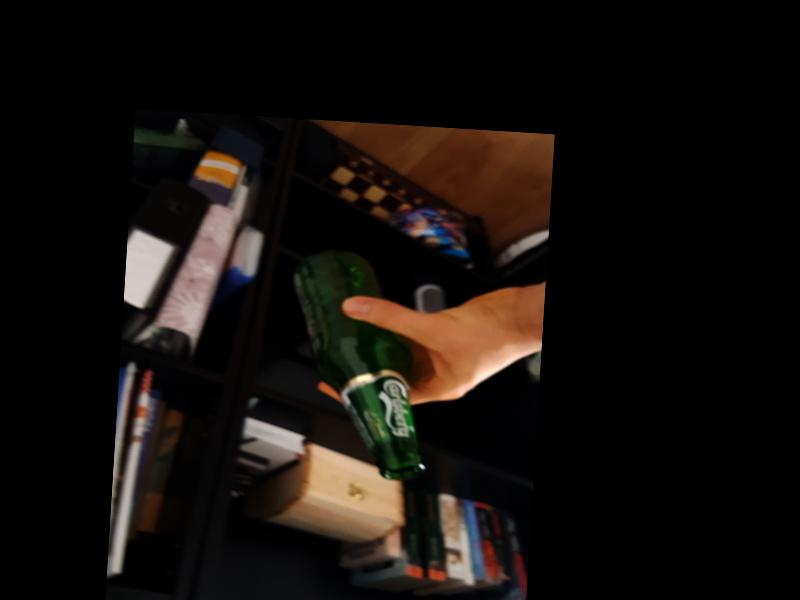Beer: (277, 246, 435, 481)
